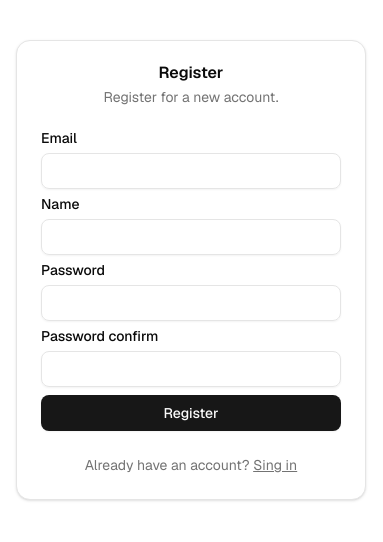
RegisterPage › shows an error message when registration fails
The width and height of the screenshot is (383, 542).
Type "user@example.com" into the field labelled "Email". click: (191, 171)
box: x1=41 y1=153 x2=341 y2=189
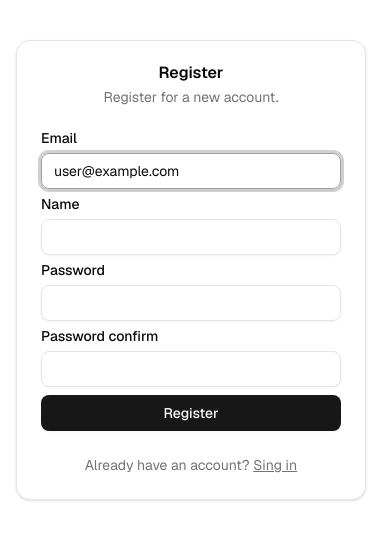
Type "Test User" into the field labelled "Name". click: (191, 237)
box: x1=41 y1=219 x2=341 y2=255
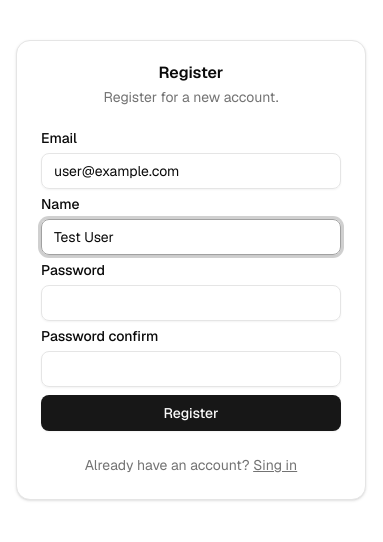
Type "strongPassword" into the password field labelled "Password". click: (191, 303)
box: x1=41 y1=285 x2=341 y2=321
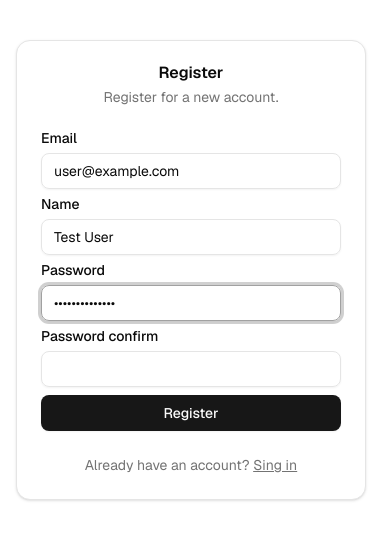
Type "strongPassword" into the password field labelled "Password confirm". click: (191, 369)
box: x1=41 y1=351 x2=341 y2=387
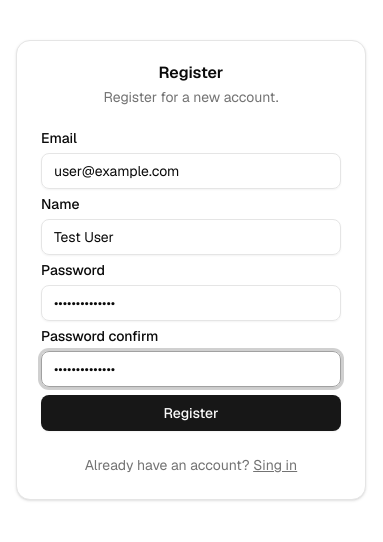
Click the button "Register". click: (191, 413)
box: x1=41 y1=395 x2=341 y2=431
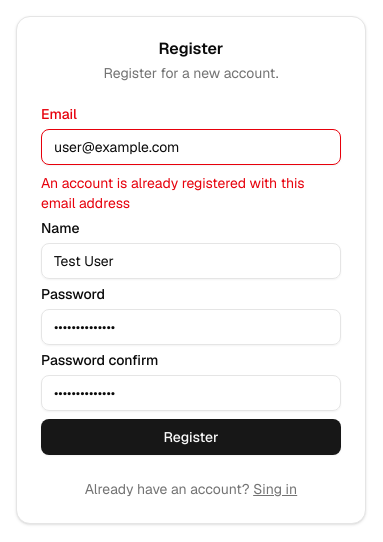
Check: the text "An account is already registered with this email address" is shown, box x1=41 y1=173 x2=341 y2=213
